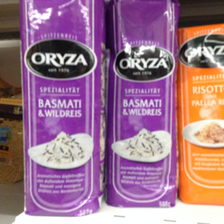rice: (19, 1, 106, 216), (105, 1, 181, 207), (179, 26, 223, 206)
